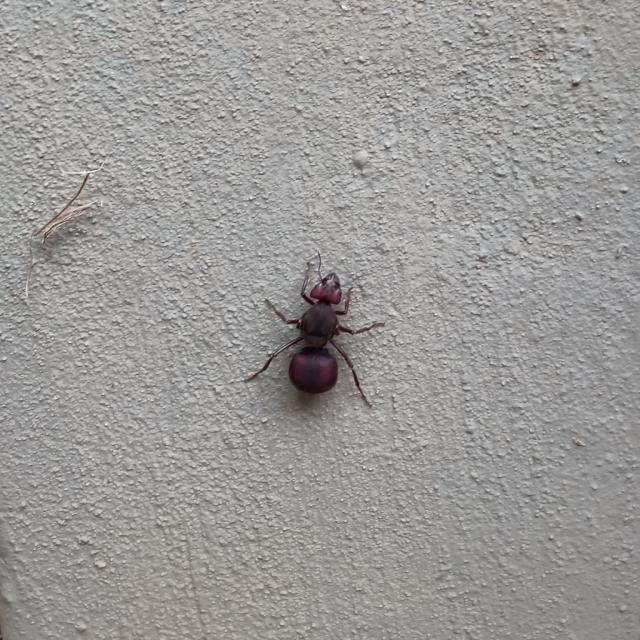Alive-Female-Dealate: (243, 250, 386, 409)
